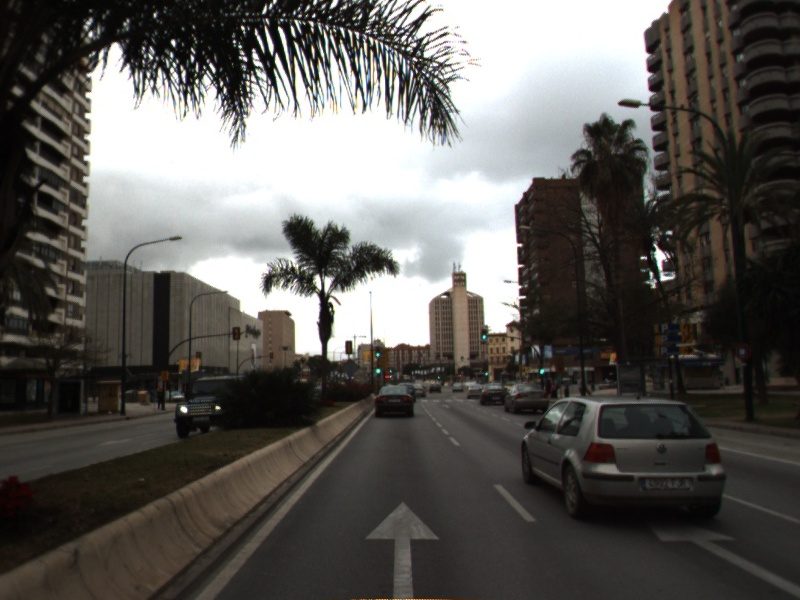STRAIGHT: (645, 511, 800, 599), (360, 496, 443, 600)
